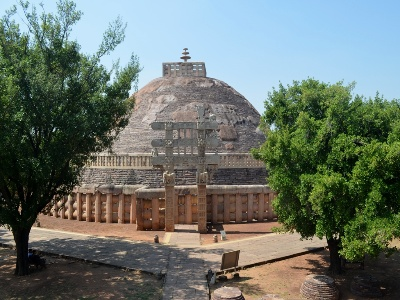torana: (144, 109, 226, 225)
